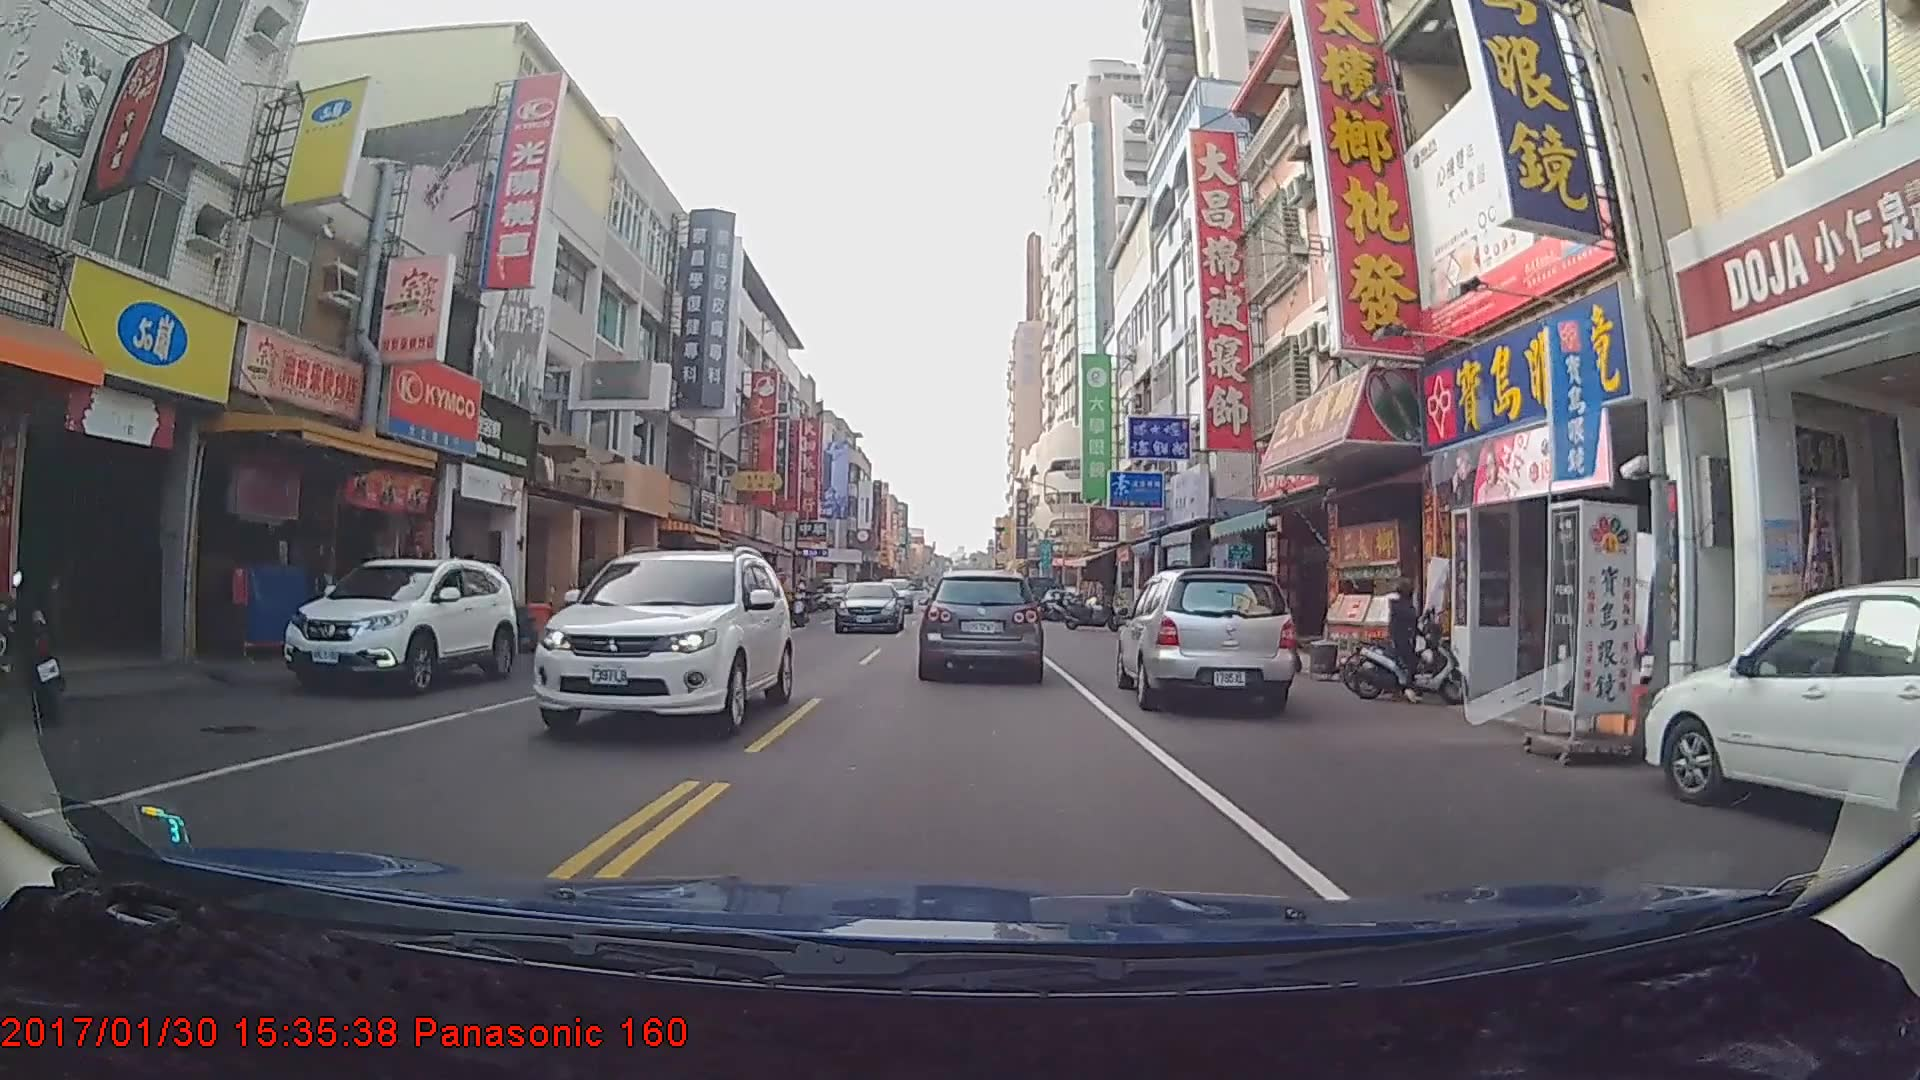rider: (1348, 575, 1478, 713)
vehicle: (1647, 574, 1920, 863), (531, 548, 793, 744), (280, 554, 516, 698), (1115, 565, 1299, 719), (919, 571, 1042, 680), (831, 578, 905, 634)
